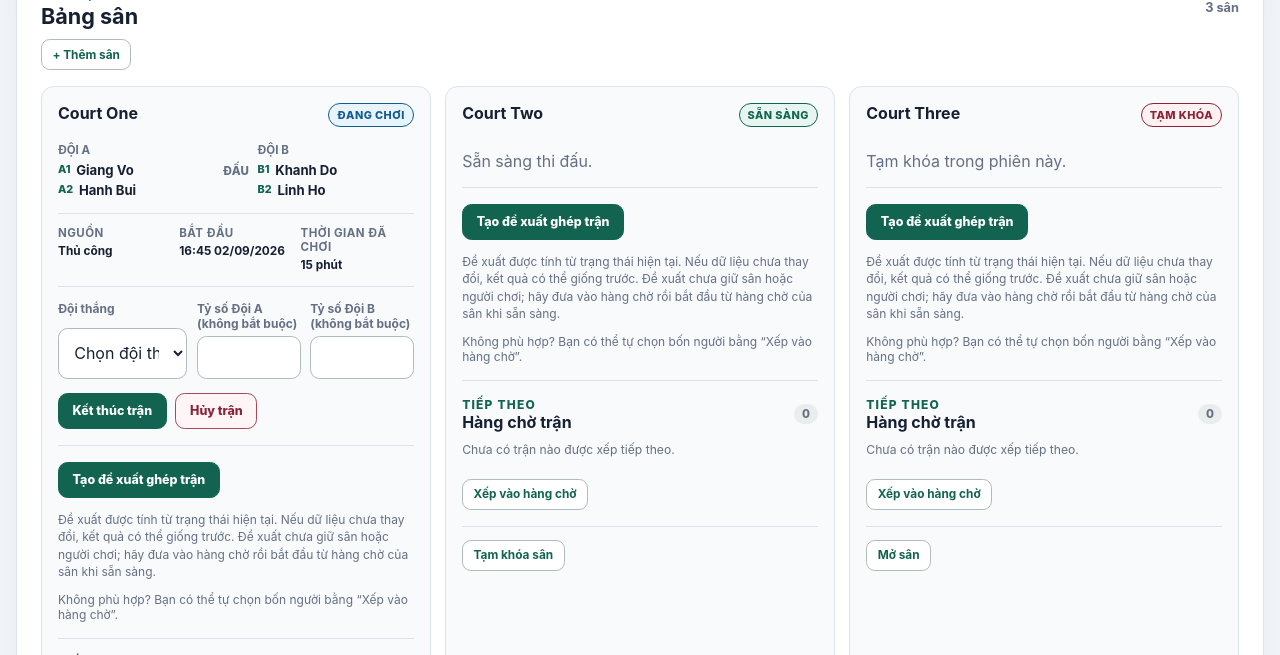
Test: Complete Match result form › rejects one missing score without a POST
This screenshot has width=1280, height=655.
(page scrolled)
Select "Đội A" in the dropdown labelled "Đội thắng" at (123, 353), box left=58, top=328, right=187, bottom=379
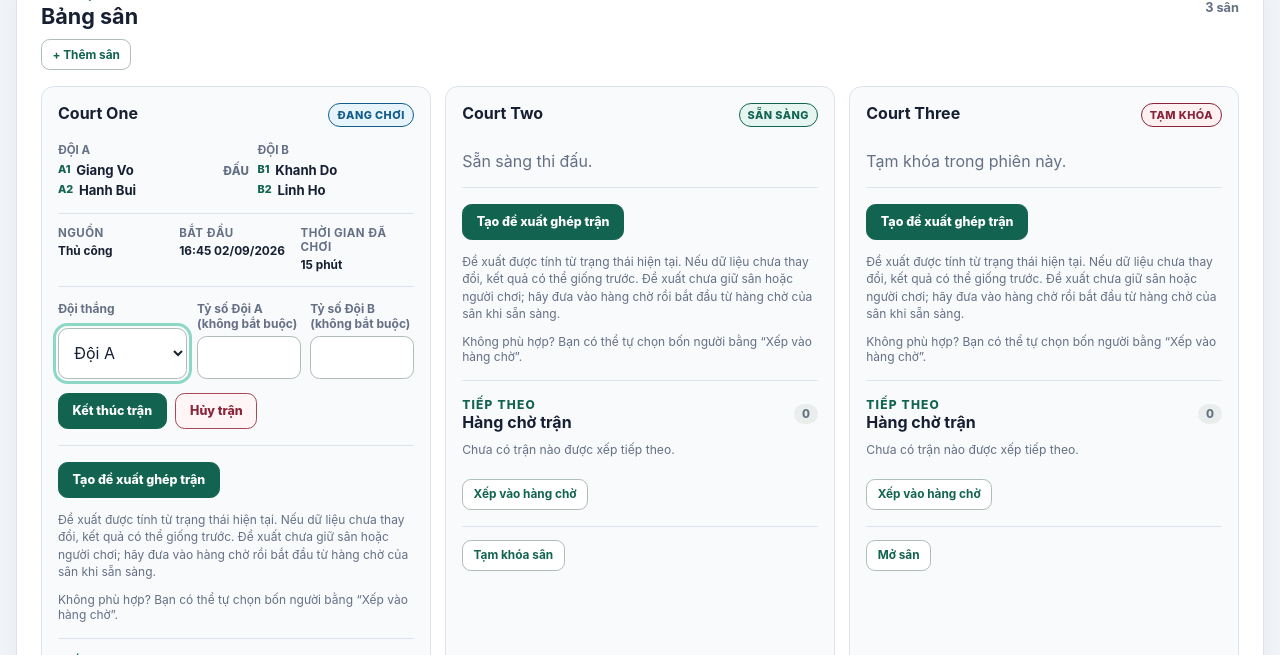
Type "21" into the number field labelled "Tỷ số Đội A (không bắt buộc)" at (249, 358), box left=197, top=336, right=300, bottom=379
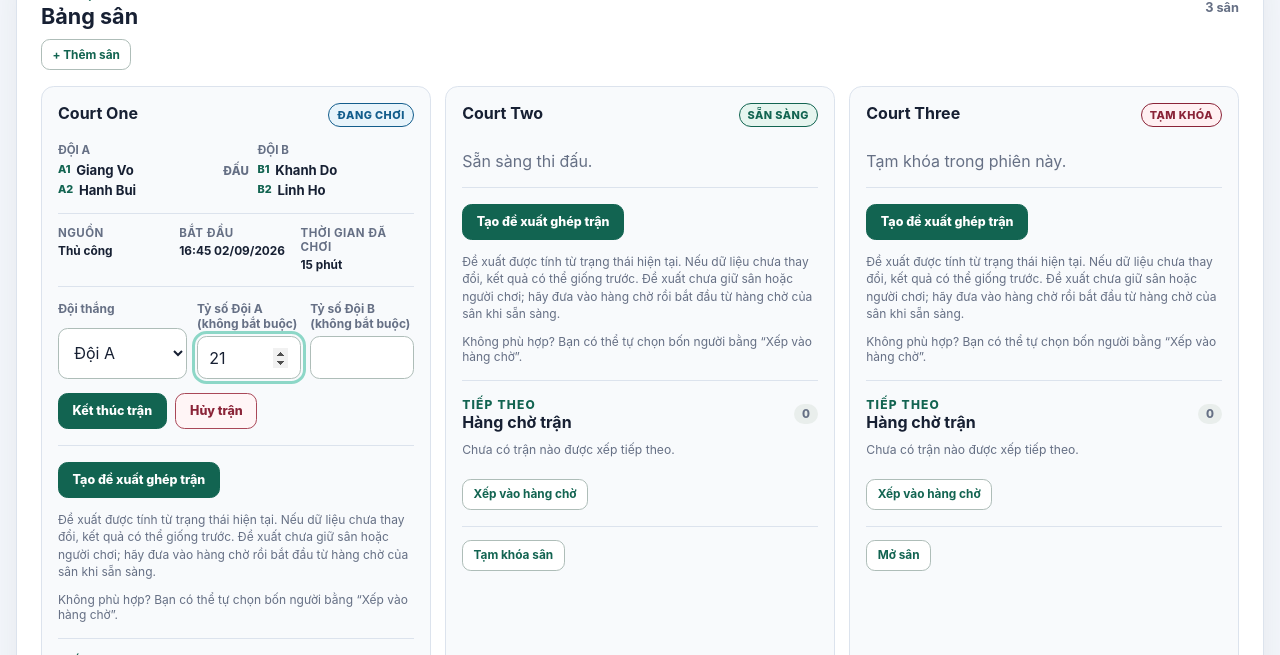
Click the button "Kết thúc trận" at (112, 411), box left=58, top=393, right=167, bottom=429
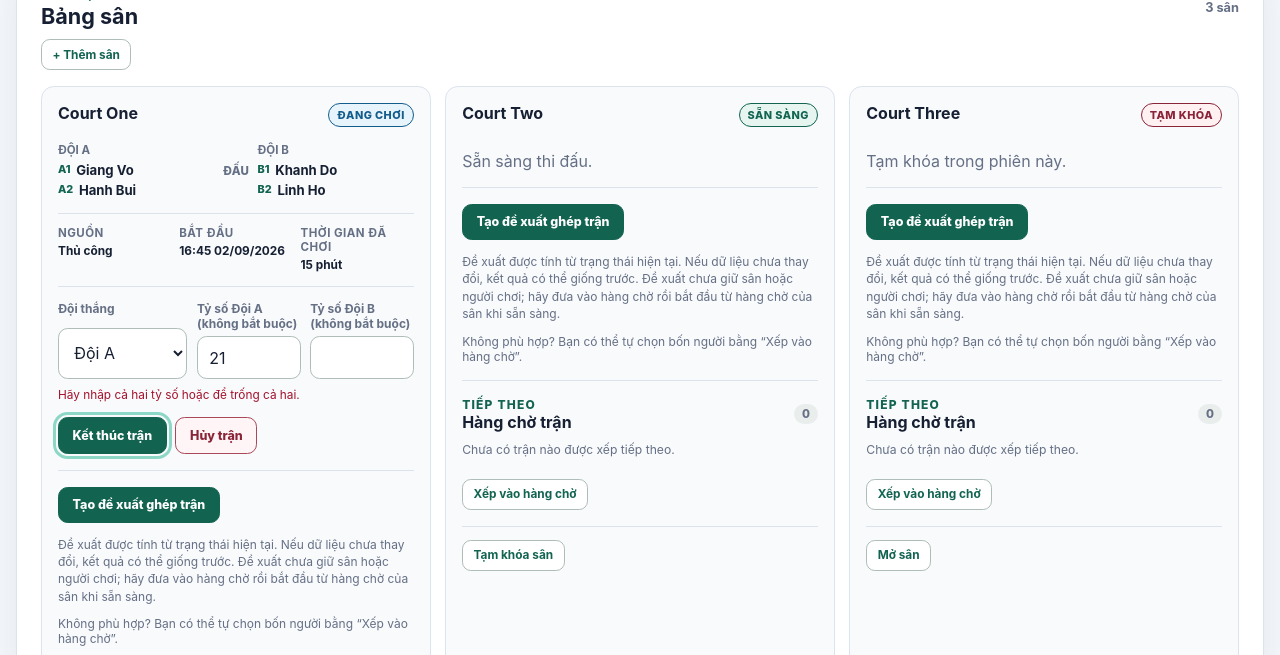
Result: the message reads "Hãy nhập cả hai tỷ số hoặc để trống cả hai." at left=58, top=388, right=300, bottom=402
